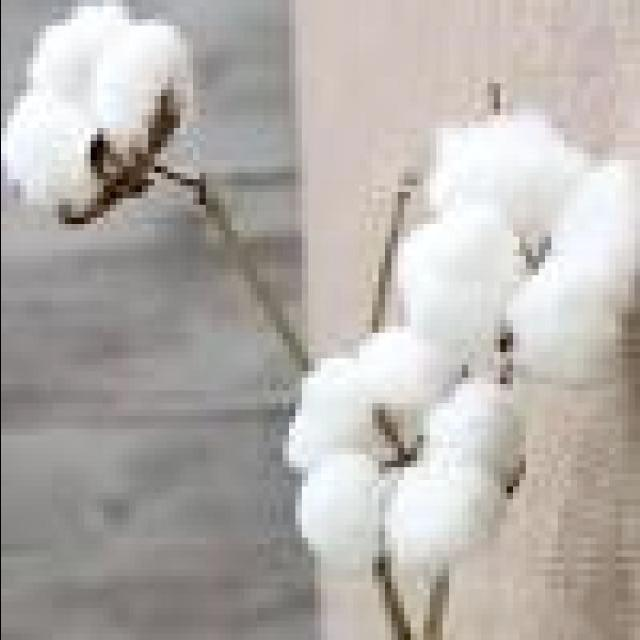Matured Cotton Boll: (402, 106, 638, 372), (276, 331, 511, 568), (0, 6, 192, 219)
